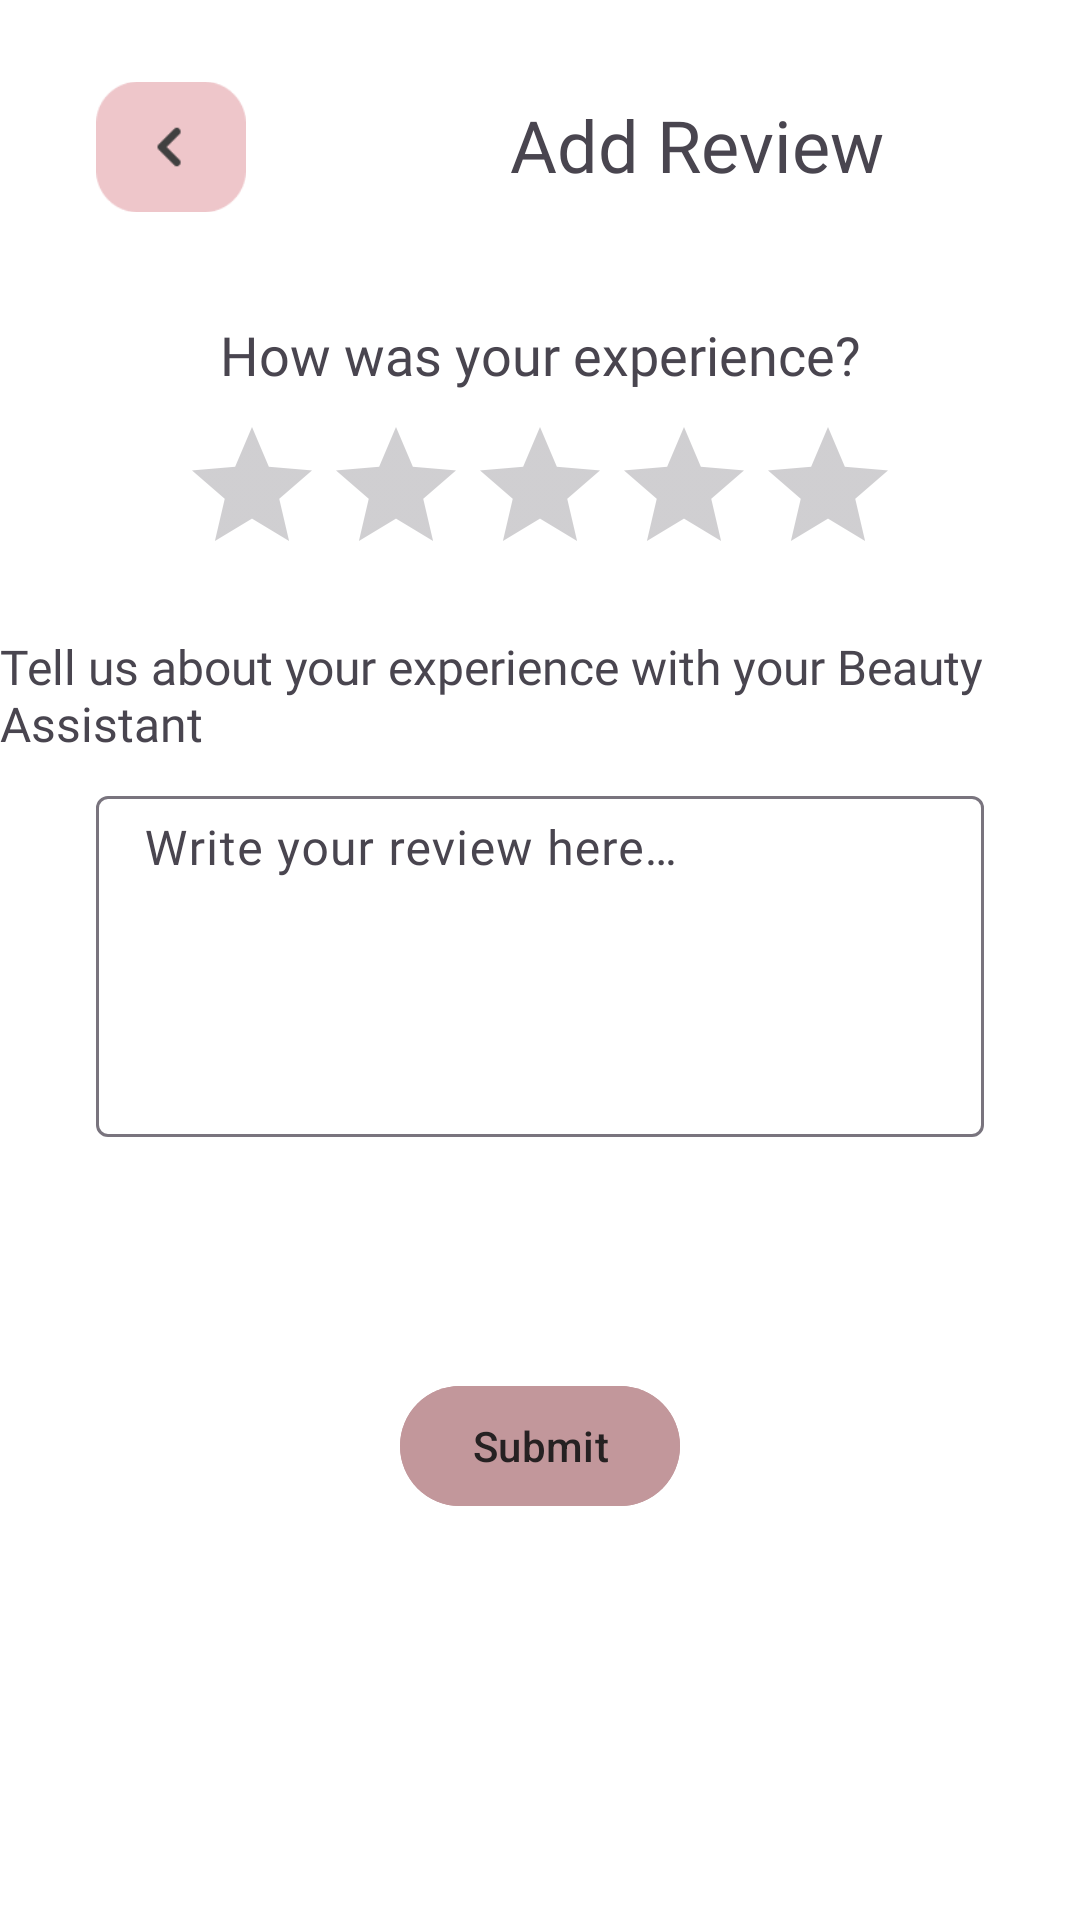

Locate icon controls on the screen. Image size 1080px×1920px, boxes as (x1, y1, x2, y2).
Back Button: (96, 82, 246, 212)
